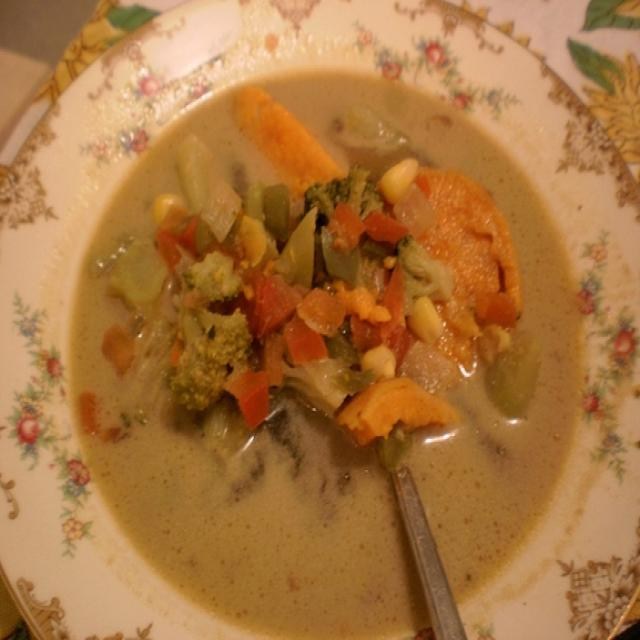汤锅炖物: (28, 24, 613, 625)
